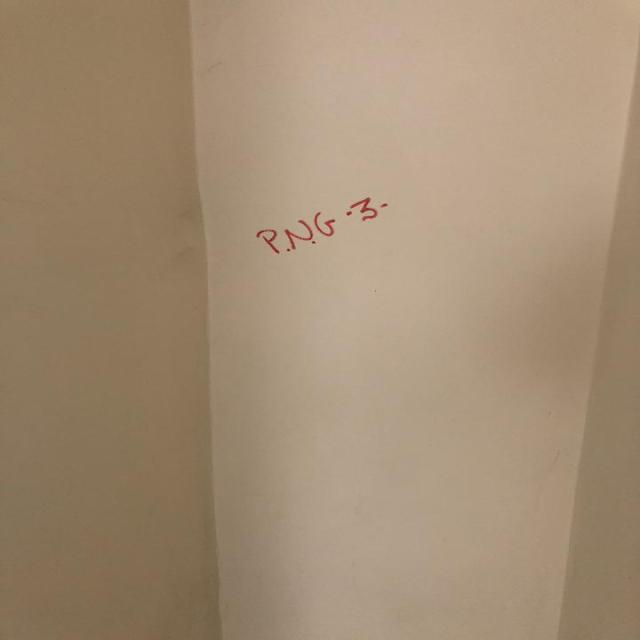nonspitting: (257, 197, 390, 254)
